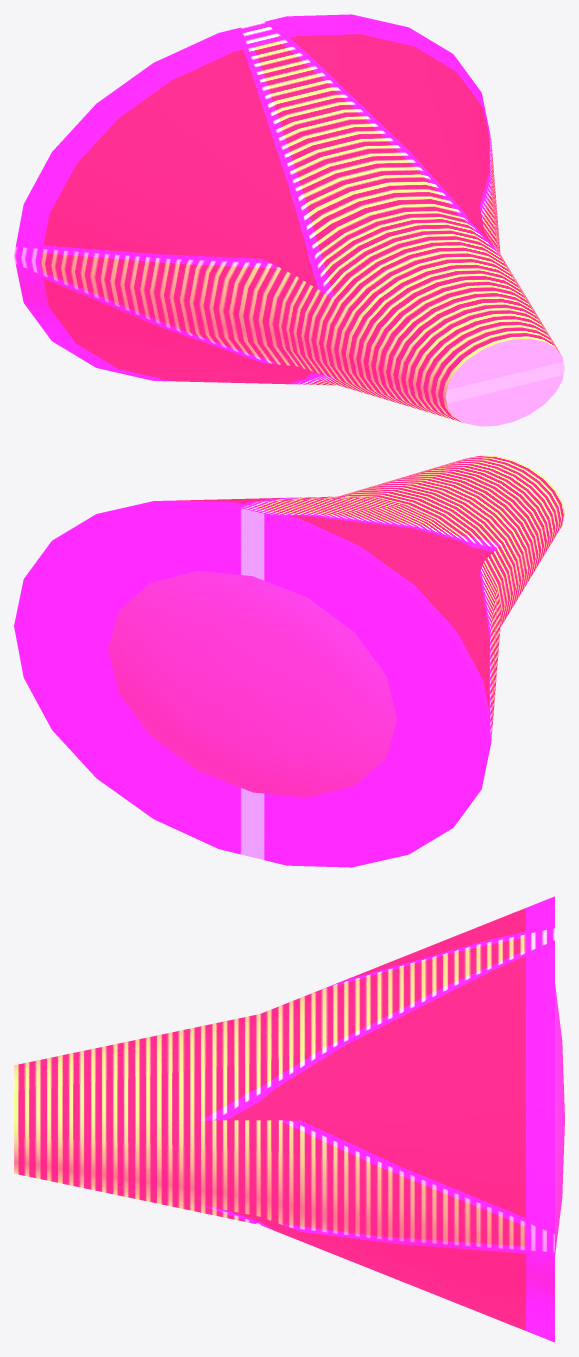
The model's file is ENGINE.glb.
3 views of the same model, one above another, from view 1: azimuth 30°, elevation 25°; view 2: azimuth 150°, elevation 25°; view 3: azimuth 270°, elevation 25° (orthographic). The views are drawn at different scales.
Visible parts, largest first — view 1: ENGINE_03; view 2: ENGINE_03; view 3: ENGINE_03.
Boxes of the visible parts, x1,y1,x2,y2 form: ENGINE_03: (14, 14, 564, 426); ENGINE_03: (14, 455, 564, 867); ENGINE_03: (14, 896, 564, 1342).
Bounding box in the file's own units: 1.2 × 0.8314 × 1.12.
2 materials, 1 textured.
